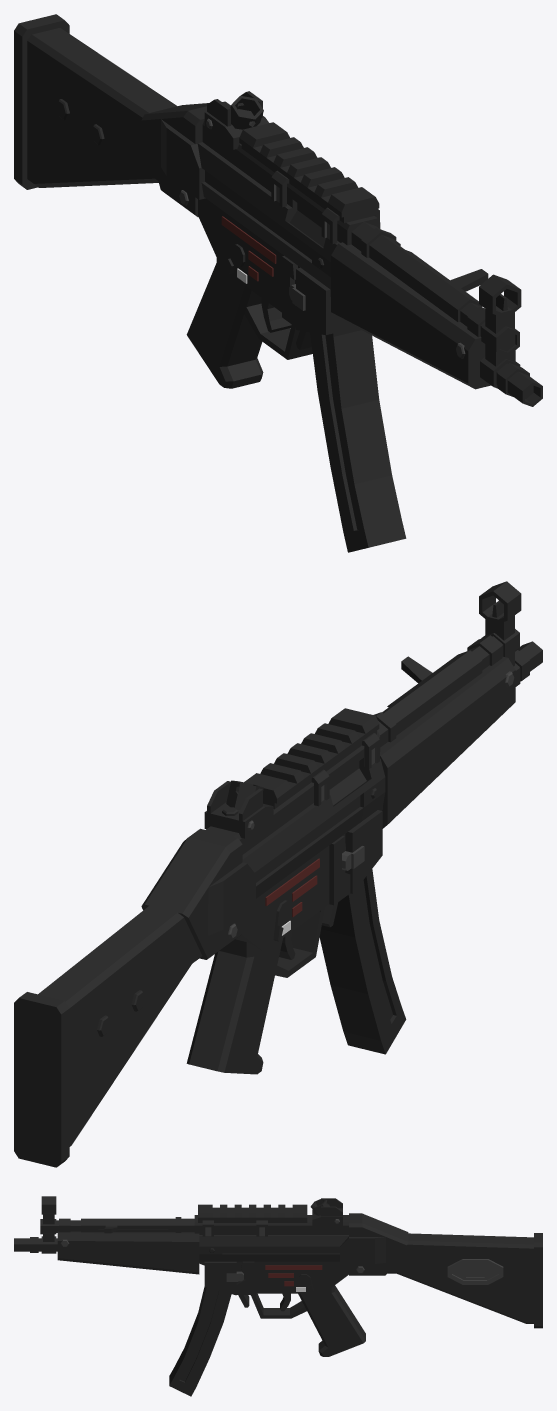
File: SMG_B.fbx
3 views of the same model, one above another, from view 1: azimuth 30°, elevation 25°; view 2: azimuth 150°, elevation 25°; view 3: azimuth 270°, elevation 25° (orthographic). The views are drawn at different scales.
Visible parts, largest first — view 1: SMG_B_Stock, SMG_B_Receiver_Up, SMG_B_Mag, SMG_B_Receiver_Down, SMG_B_BarrelGuard, SMG_B_Rail, SMG_B_Barrel, SMG_B_Sight; view 2: SMG_B_Stock, SMG_B_Receiver_Up, SMG_B_Receiver_Down, SMG_B_Mag, SMG_B_BarrelGuard, SMG_B_Rail, SMG_B_Barrel, SMG_B_Sight; view 3: SMG_B_Stock, SMG_B_Receiver_Up, SMG_B_Receiver_Down, SMG_B_BarrelGuard, SMG_B_Mag, SMG_B_Rail, SMG_B_Barrel, SMG_B_Sight.
Part boxes in pixels (x1,y1,x2,y2): SMG_B_Stock: (14,14,230,216); SMG_B_Receiver_Up: (197,120,485,349); SMG_B_Mag: (310,327,406,552); SMG_B_Receiver_Down: (186,198,312,388); SMG_B_BarrelGuard: (331,242,515,389); SMG_B_Rail: (239,122,379,243); SMG_B_Barrel: (479,274,542,406); SMG_B_Sight: (204,91,268,149); SMG_B_Stock: (14,828,255,1167); SMG_B_Receiver_Up: (206,635,503,927); SMG_B_Receiver_Down: (186,834,350,1074); SMG_B_Mag: (319,869,406,1054); SMG_B_BarrelGuard: (380,656,515,828); SMG_B_Rail: (244,708,379,809); SMG_B_Barrel: (479,581,542,686); SMG_B_Sight: (204,780,273,838); SMG_B_Stock: (340,1213,542,1328); SMG_B_Receiver_Up: (56,1215,348,1307); SMG_B_Receiver_Down: (236,1261,365,1356); SMG_B_BarrelGuard: (57,1231,199,1274); SMG_B_Mag: (169,1286,231,1396); SMG_B_Rail: (198,1204,307,1236); SMG_B_Barrel: (14,1196,57,1253); SMG_B_Sight: (310,1198,342,1225).
Size of the model in its own units: 0.075 by 0.3707 by 0.9085.
